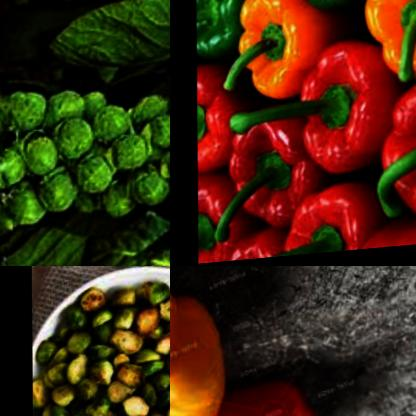bell pepper: (291, 36, 400, 184), (224, 0, 364, 107), (220, 108, 316, 237), (270, 177, 382, 260), (170, 276, 226, 416), (371, 79, 416, 231), (196, 162, 262, 265), (170, 376, 326, 416), (194, 0, 269, 79), (196, 61, 243, 184), (358, 0, 416, 93), (354, 207, 416, 254), (218, 223, 286, 264)
brus capusta: (0, 42, 170, 245), (30, 270, 170, 416)
